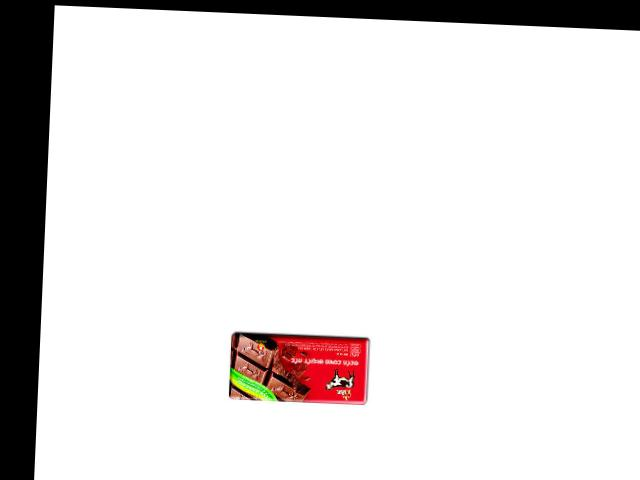chocolate: (228, 325, 374, 407)
